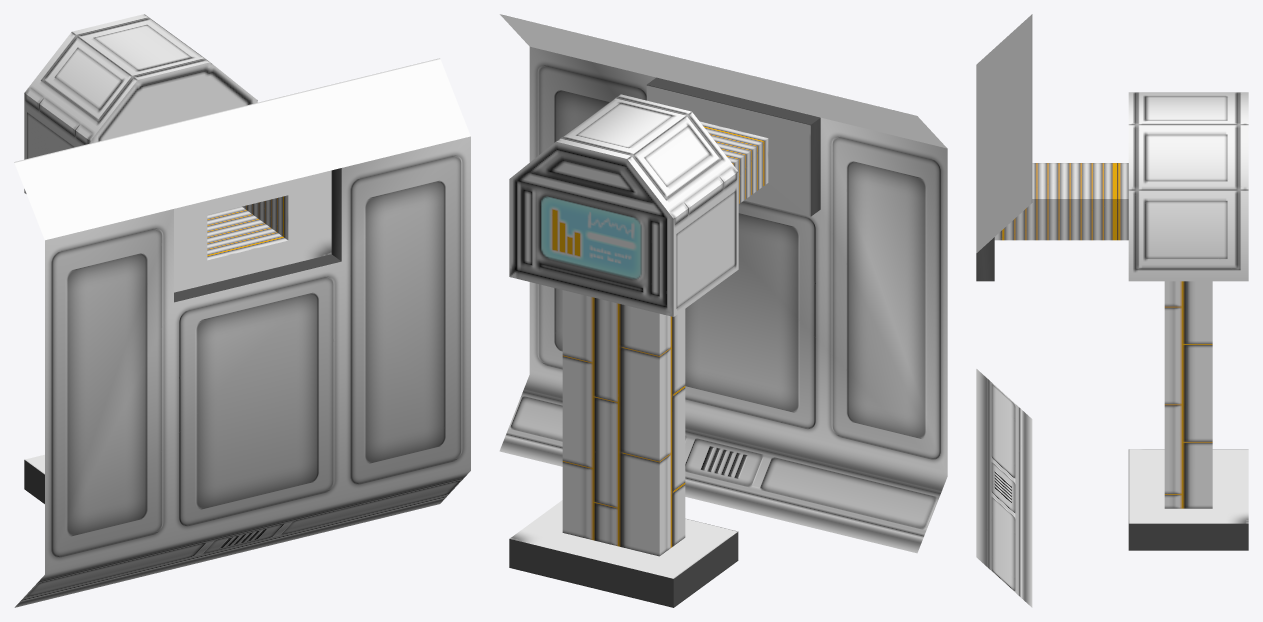
Rendered from Sect_Wall_9_Conduit.FBX.
3 renders of one model, left to right at view 1: azimuth 30°, elevation 25°; view 2: azimuth 150°, elevation 25°; view 3: azimuth 270°, elevation 25°, orthographic. The views are drawn at different scales.
Visible parts, largest first — view 1: Wall_9_Conduit; view 2: Wall_9_Conduit; view 3: Wall_9_Conduit.
Part boxes in pixels (left/top/right/bottom): Wall_9_Conduit: left=14, top=14, right=470, bottom=607; Wall_9_Conduit: left=499, top=14, right=947, bottom=607; Wall_9_Conduit: left=976, top=14, right=1248, bottom=607.
Bounding box in the file's own units: 4 × 4 × 2.44.
